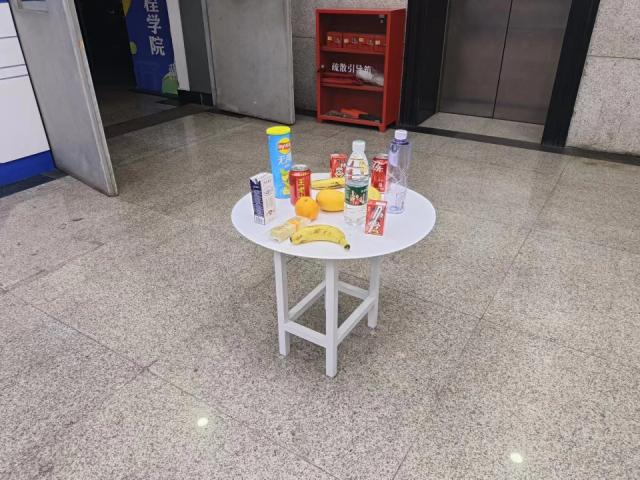Canned_drinks: (289, 164, 312, 206), (371, 152, 391, 193)
bottle: (386, 129, 412, 216), (346, 139, 370, 227)
cylinder: (266, 126, 294, 200)
drink_box: (250, 172, 279, 224), (364, 199, 386, 237), (329, 152, 347, 180)
